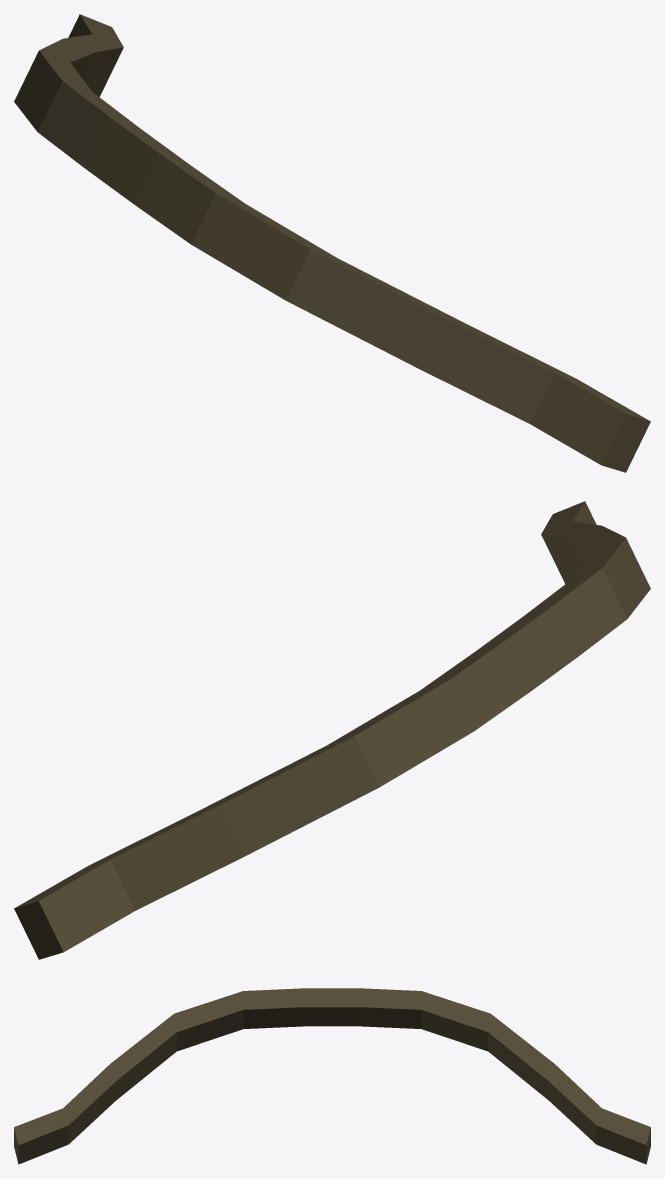
The model's file is RedArcherBow.fbx.
3 views of the same model, one above another, from view 1: azimuth 30°, elevation 25°; view 2: azimuth 150°, elevation 25°; view 3: azimuth 270°, elevation 25° (orthographic). The views are drawn at different scales.
Visible parts, largest first — view 1: pCube10; view 2: pCube10; view 3: pCube10.
Part boxes in pixels (x1=…): pCube10: x1=14, y1=14, x2=650, y2=472; pCube10: x1=14, y1=501, x2=650, y2=959; pCube10: x1=14, y1=988, x2=650, y2=1164.
Size of the model in its own units: 0.2711 by 0.1853 by 0.9445.
